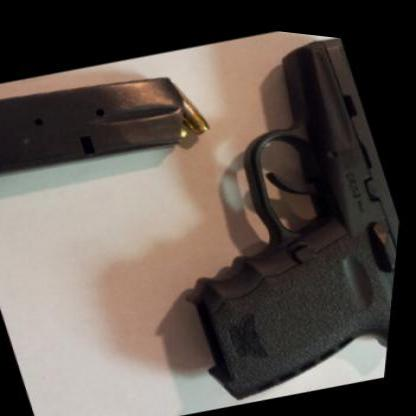pistol: (87, 10, 414, 416)
